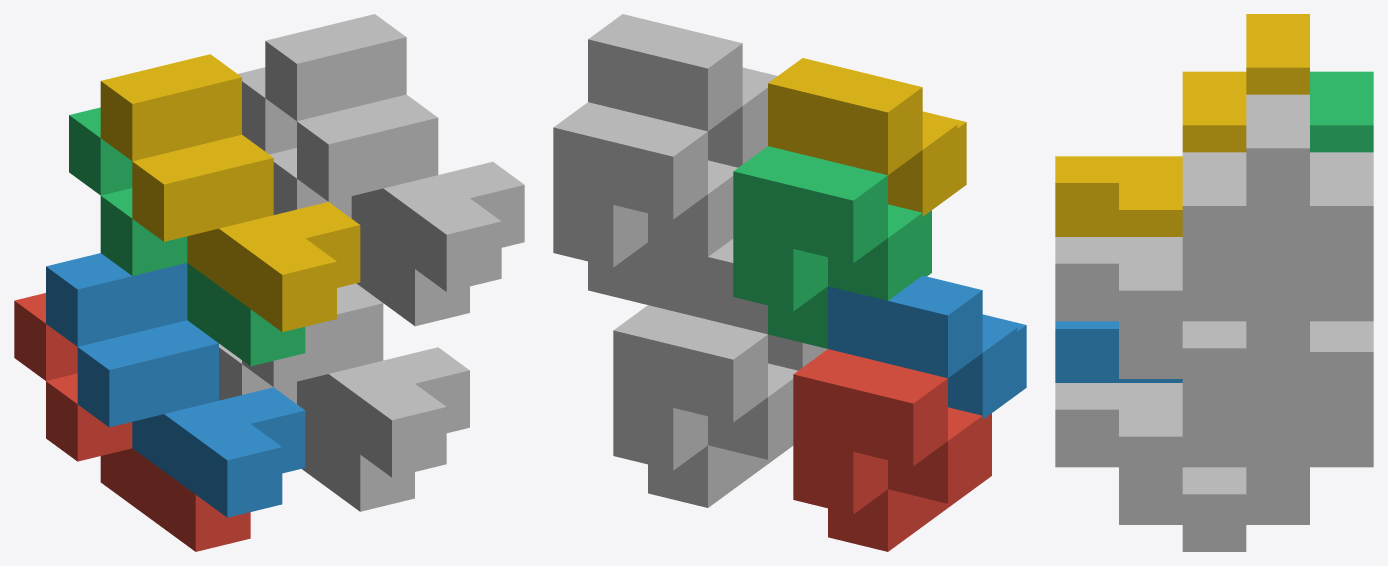
Rendered from tiling.obj.
3 renders of one model, left to right at view 1: azimuth 30°, elevation 25°; view 2: azimuth 150°, elevation 25°; view 3: azimuth 270°, elevation 25°, orthographic. The views are drawn at different scales.
Parts seen in each view (by area): view 1: copy_1_domain_4, copy_1_domain_8, copy_1_domain_2, copy_1_domain_6, copy_1_domain_1, copy_1_domain_3, copy_1_domain_7, copy_1_domain_5; view 2: copy_1_domain_1, copy_1_domain_5, copy_1_domain_3, copy_1_domain_7, copy_1_domain_4, copy_1_domain_8, copy_1_domain_2, copy_1_domain_6; view 3: copy_1_domain_8, copy_1_domain_7, copy_1_domain_5, copy_1_domain_4, copy_1_domain_6, copy_1_domain_3, copy_1_domain_2.
Boxes of the visible parts, x1=… form: copy_1_domain_4: x1=100, y1=54, x2=360, y2=332; copy_1_domain_8: x1=265, y1=14, x2=524, y2=291; copy_1_domain_2: x1=46, y1=253, x2=305, y2=517; copy_1_domain_6: x1=242, y1=283, x2=469, y2=477; copy_1_domain_1: x1=14, y1=293, x2=250, y2=551; copy_1_domain_3: x1=69, y1=107, x2=305, y2=366; copy_1_domain_7: x1=238, y1=67, x2=469, y2=326; copy_1_domain_5: x1=219, y1=343, x2=414, y2=511; copy_1_domain_1: x1=793, y1=349, x2=991, y2=551; copy_1_domain_5: x1=613, y1=305, x2=797, y2=507; copy_1_domain_3: x1=733, y1=146, x2=931, y2=348; copy_1_domain_7: x1=553, y1=102, x2=737, y2=304; copy_1_domain_4: x1=768, y1=58, x2=966, y2=216; copy_1_domain_8: x1=588, y1=14, x2=777, y2=167; copy_1_domain_2: x1=828, y1=275, x2=1026, y2=419; copy_1_domain_6: x1=648, y1=239, x2=827, y2=370; copy_1_domain_8: x1=1055, y1=94, x2=1309, y2=348; copy_1_domain_7: x1=1119, y1=152, x2=1373, y2=405; copy_1_domain_5: x1=1119, y1=321, x2=1373, y2=551; copy_1_domain_4: x1=1055, y1=14, x2=1309, y2=236; copy_1_domain_6: x1=1055, y1=379, x2=1309, y2=494; copy_1_domain_3: x1=1310, y1=71, x2=1373, y2=152; copy_1_domain_2: x1=1055, y1=321, x2=1182, y2=382.
Bounding box in the file's own units: 7 × 7 × 5.
